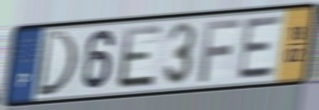3: (163, 20, 198, 88)
6: (82, 28, 116, 93)
D: (34, 29, 79, 99)
E: (235, 14, 285, 83), (116, 22, 164, 91)
F: (197, 17, 243, 85)
